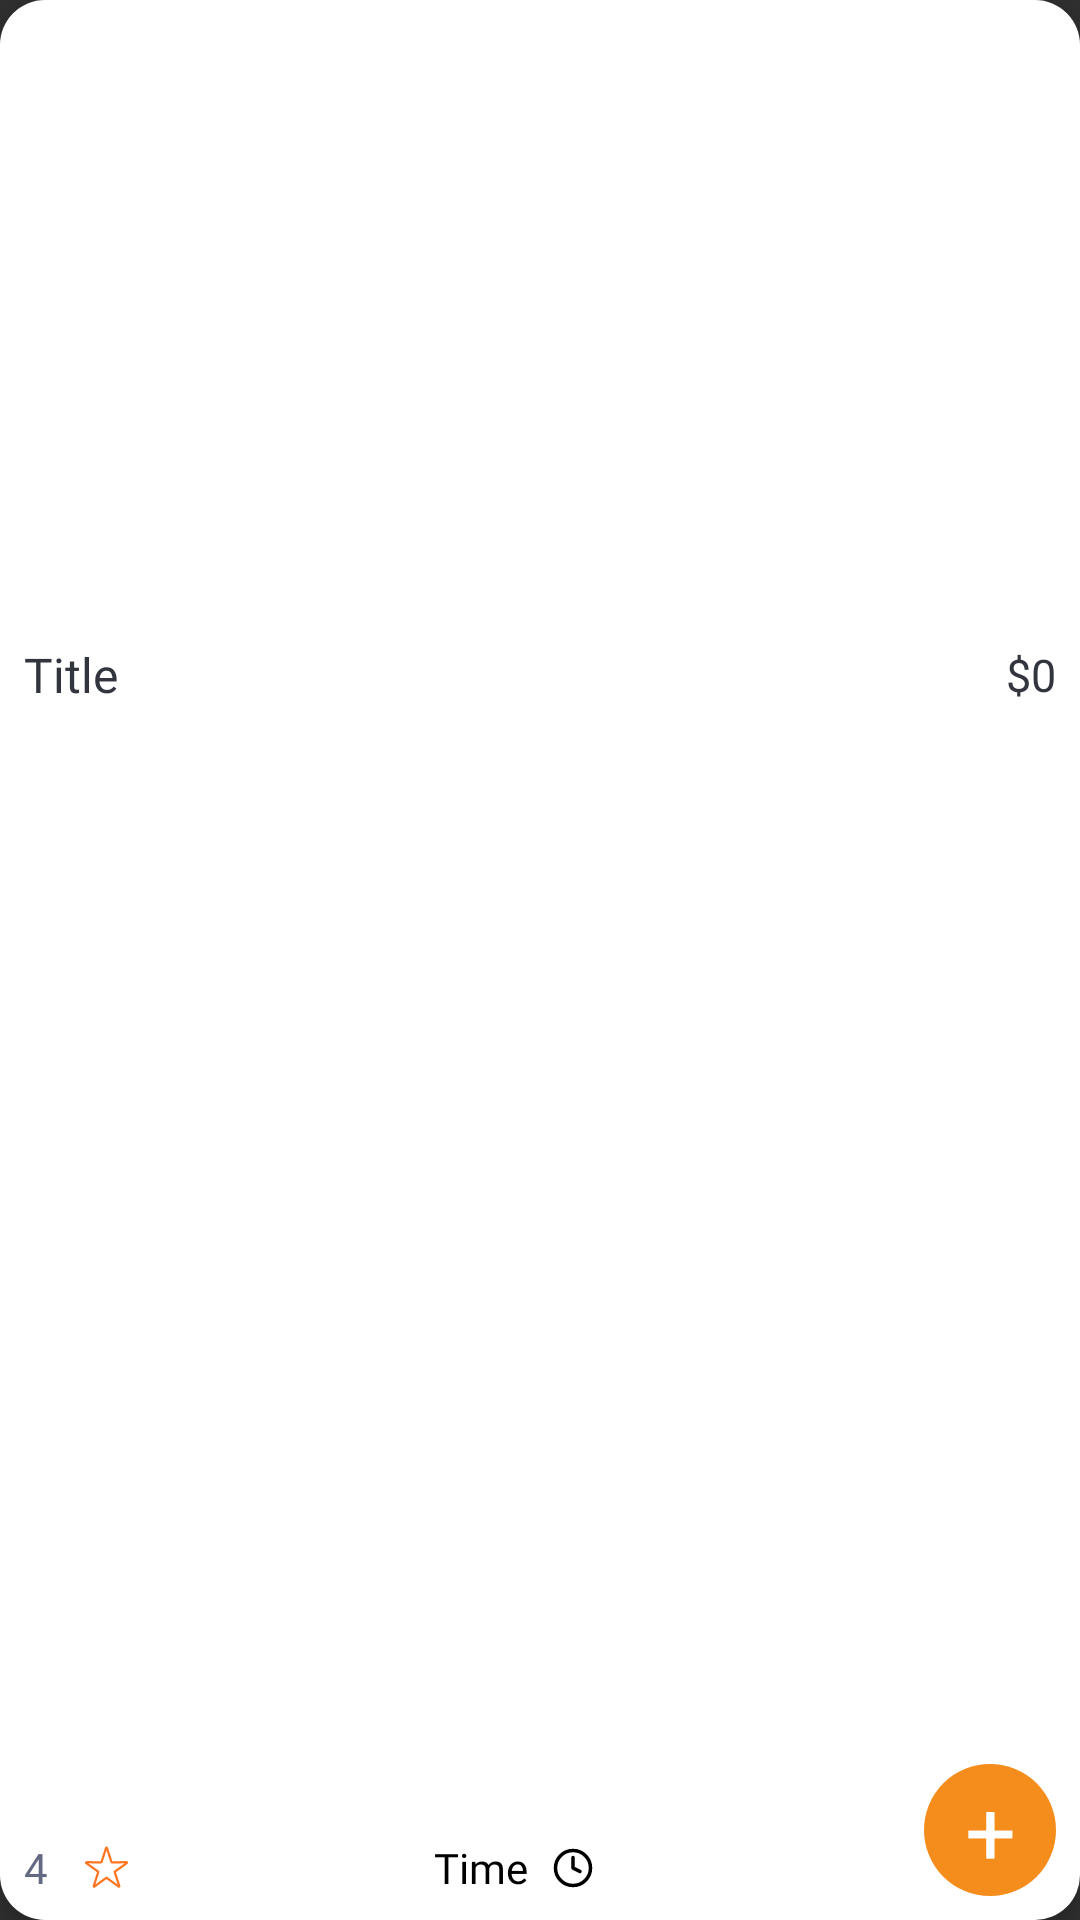

Icon click points for this 1080 x 1920 phone screenshot, format (x=x, y=y):
shape star stroke: (x=106, y=1867)
